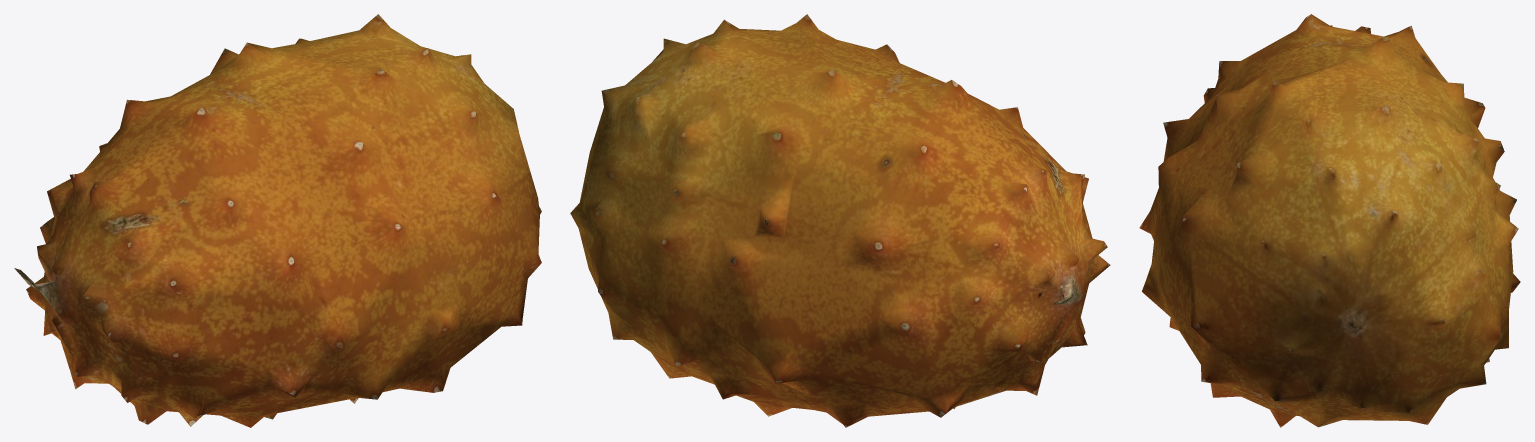
The picture shows the model from 3 angles, left to right: view 1: azimuth 30°, elevation 25°; view 2: azimuth 150°, elevation 25°; view 3: azimuth 270°, elevation 25°; orthographic projection.
Visible parts, largest first — view 1: 47_kiwano; view 2: 47_kiwano; view 3: 47_kiwano.
Part boxes in pixels (x1,y1,x2,y2): 47_kiwano: (14,14,541,427); 47_kiwano: (570,14,1110,427); 47_kiwano: (1139,14,1520,427).
Bounding box in the file's own units: 0.9966 × 0.7048 × 0.6955.
Materials: 1 (1 with a texture image).
